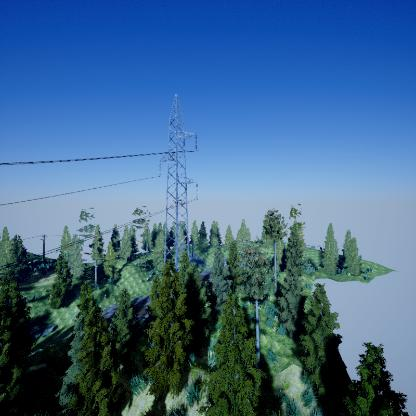tower: (156, 91, 200, 273)
